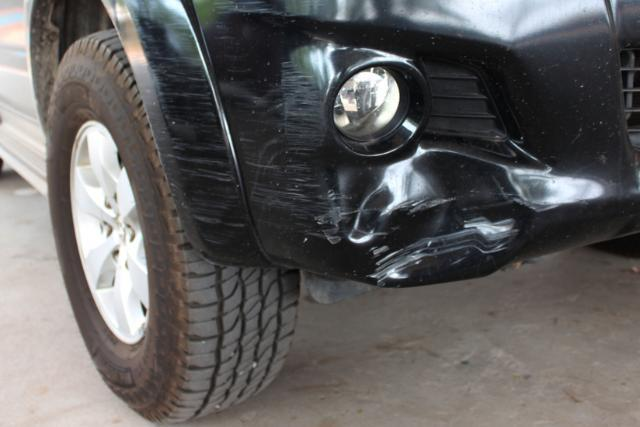Bumper: (127, 0, 640, 262)
